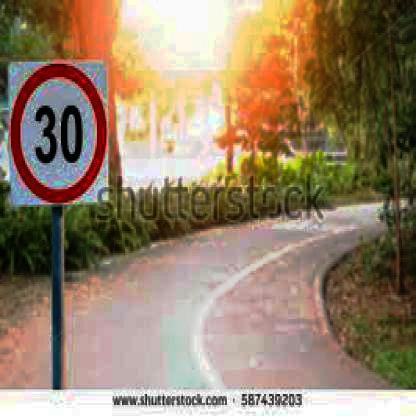Speed Limit -30-: (6, 65, 118, 208)
